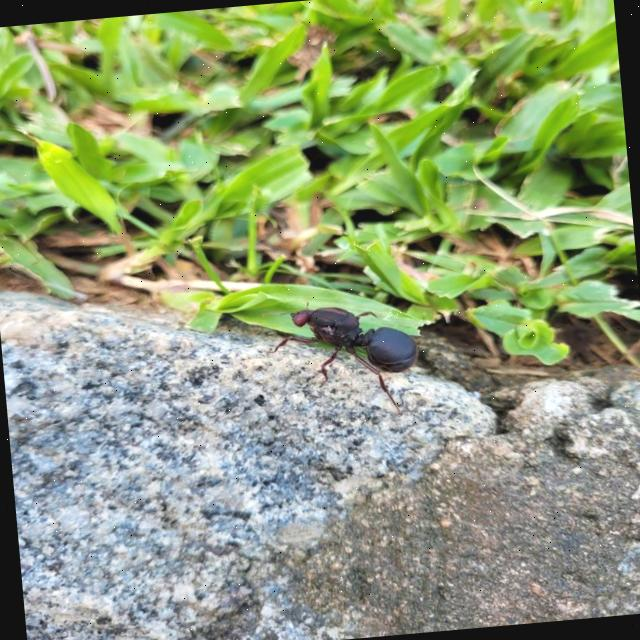Alive-Female-Dealate: (262, 294, 422, 426)
